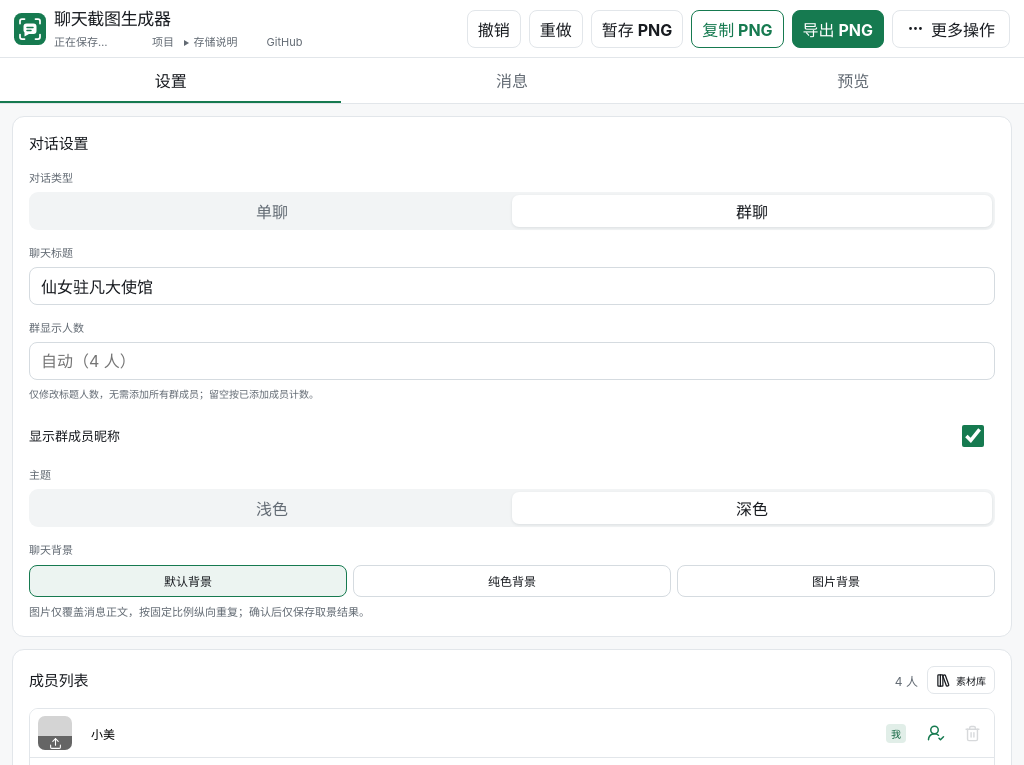
Test: export snapshot safety › measures actual overflow and long-image size when exporting from mobile 设置
The width and height of the screenshot is (1024, 765).
Click the tab "设置": (171, 80) [0,58,341,103]
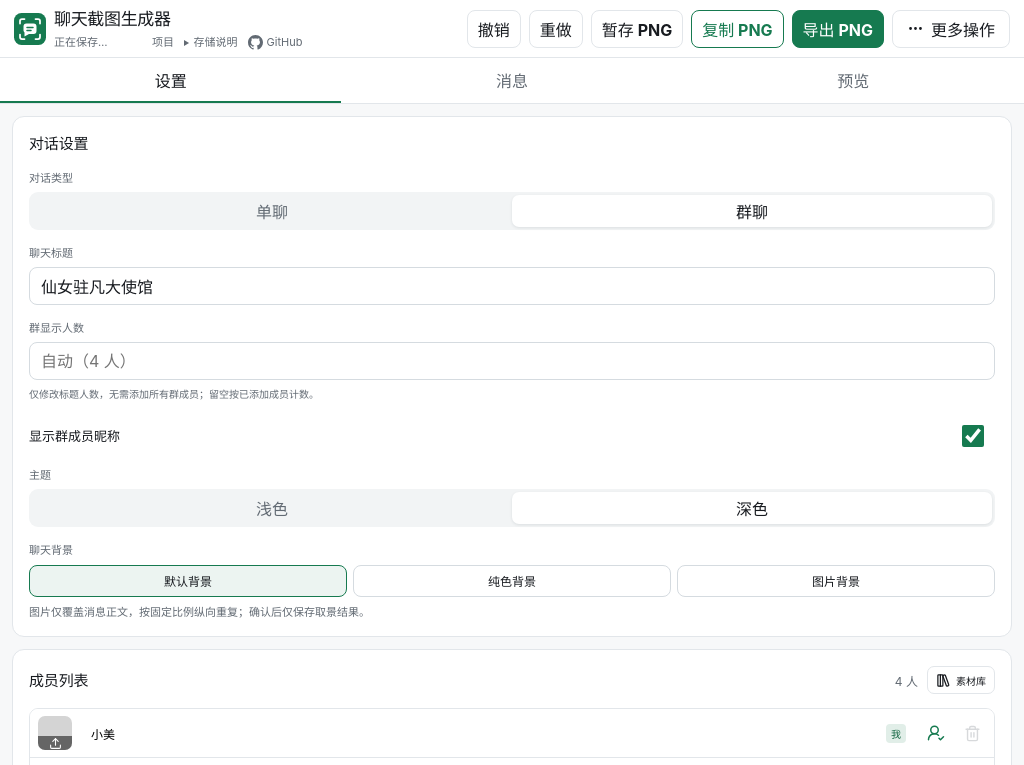
Click the button "导出 PNG": (838, 28) [792,10,884,48]
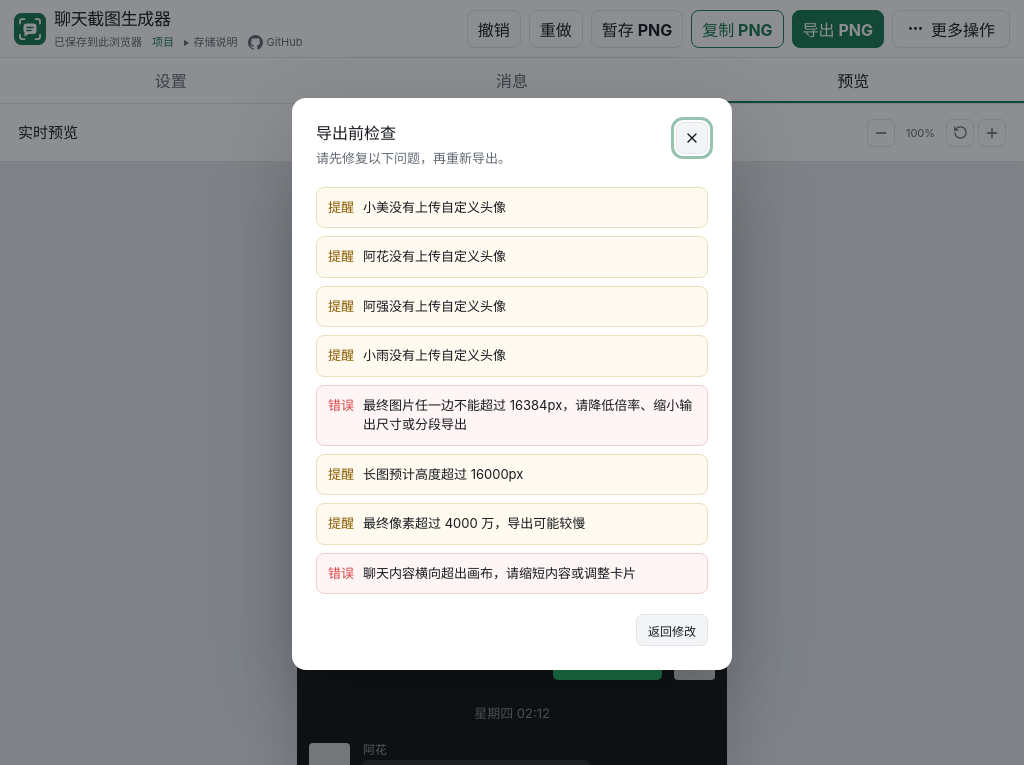
Expected: the text "聊天内容横向超出画布，请缩短内容或调整卡片" is shown, [363,565,636,581]
Expected: the text "长图预计高度超过 16000px" is shown, [363,466,523,482]
Expected: the text "最终像素超过 4000 万，导出可能较慢" is shown, [363,515,585,531]
